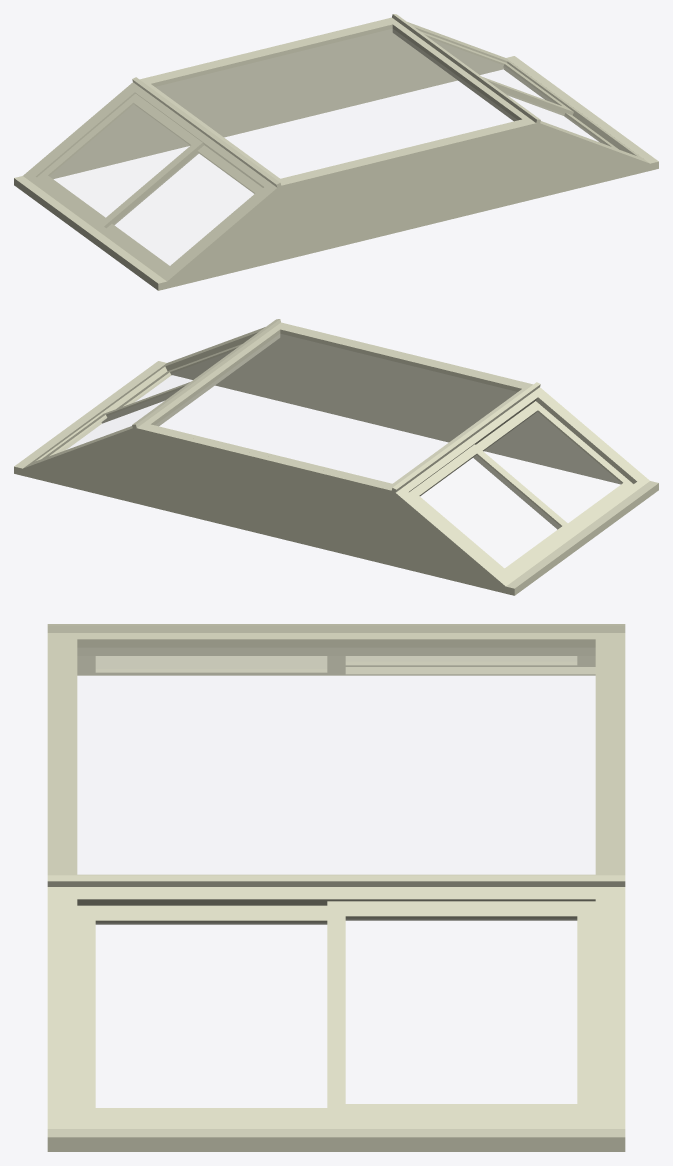
3 views of the same model, one above another, from view 1: azimuth 30°, elevation 25°; view 2: azimuth 150°, elevation 25°; view 3: azimuth 270°, elevation 25° (orthographic). The views are drawn at different scales.
Visible parts, largest first — view 1: Model, Component_5_1, Component_4_1, Component_3_2, Component_3_1, Component_4_2, Component_3_4, Component_3_3; view 2: Model, Component_5_1, Component_4_1, Component_3_2, Component_3_1, Component_4_2, Component_3_3, Component_3_4; view 3: Model, Component_4_2, Component_5_1, Component_3_4, Component_3_3, Component_4_1, Component_3_1, Component_3_2.
Boxes of the visible parts, box(x1,y1,x2,y2) form: Model: box(14, 14, 658, 290); Component_5_1: box(143, 20, 531, 182); Component_4_1: box(26, 85, 273, 278); Component_3_2: box(37, 93, 203, 228); Component_3_1: box(106, 145, 262, 271); Component_4_2: box(411, 24, 645, 160); Component_3_4: box(420, 31, 573, 115); Component_3_3: box(498, 88, 618, 149); Model: box(14, 319, 658, 595); Component_5_1: box(141, 325, 529, 487); Component_4_1: box(399, 390, 646, 583); Component_3_2: box(409, 444, 573, 576); Component_3_1: box(473, 401, 633, 529); Component_4_2: box(27, 329, 261, 465); Component_3_3: box(101, 344, 241, 423); Component_3_4: box(42, 382, 189, 458); Model: box(47, 624, 625, 1151); Component_4_2: box(62, 887, 610, 1128); Component_5_1: box(62, 633, 610, 875); Component_3_4: box(327, 901, 595, 1116); Component_3_3: box(77, 905, 327, 1116); Component_4_1: box(77, 656, 595, 675); Component_3_1: box(77, 656, 345, 674); Component_3_2: box(345, 656, 595, 666).
Bounding box in the file's own units: 78.58 × 11.82 × 39.25.
